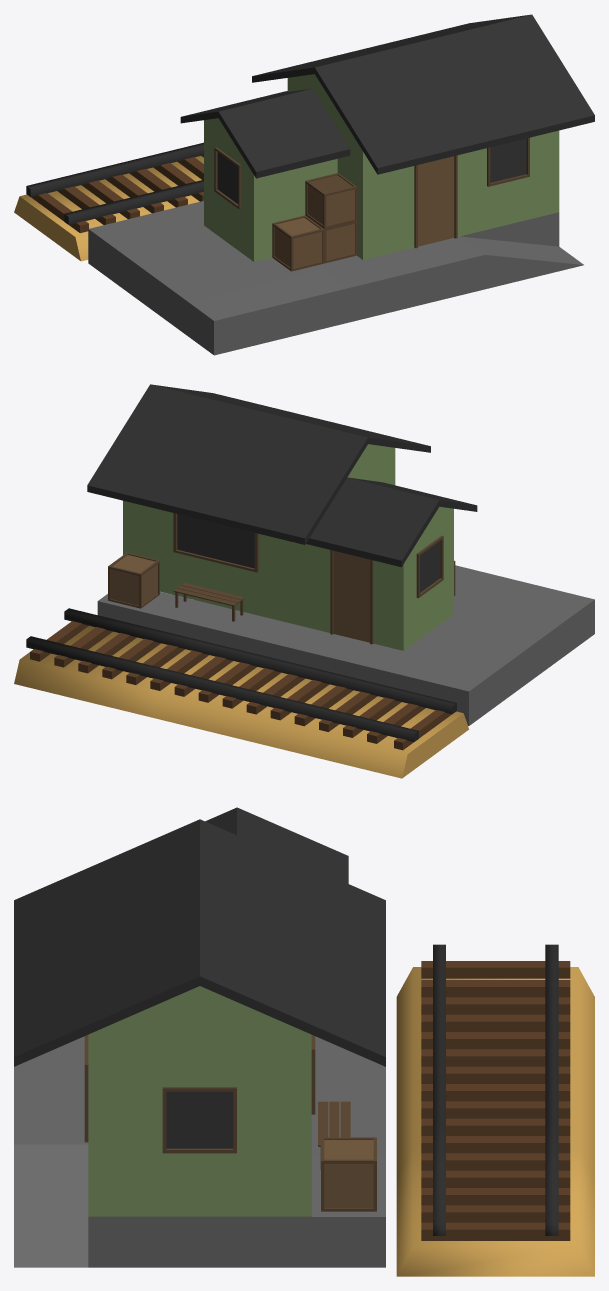
File: small_station.fbx
3 renders of one model, top to bottom at view 1: azimuth 30°, elevation 25°; view 2: azimuth 150°, elevation 25°; view 3: azimuth 270°, elevation 25°, orthographic. The views are drawn at different scales.
Parts seen in each view (by area): view 1: station, rails, boxes; view 2: station, rails, boxes, bench; view 3: station, rails, boxes, bench.
Part boxes in pixels (x1,y1,x2,y2): station: [88, 14, 594, 355]; rails: [14, 142, 203, 261]; boxes: [272, 173, 356, 271]; station: [87, 384, 594, 725]; rails: [14, 608, 469, 778]; boxes: [108, 552, 455, 608]; bench: [173, 582, 244, 621]; station: [14, 807, 385, 1267]; rails: [396, 944, 594, 1276]; boxes: [321, 1137, 376, 1211]; bench: [318, 1101, 350, 1169].
Bounding box in the file's own units: 400 × 200 × 351.
